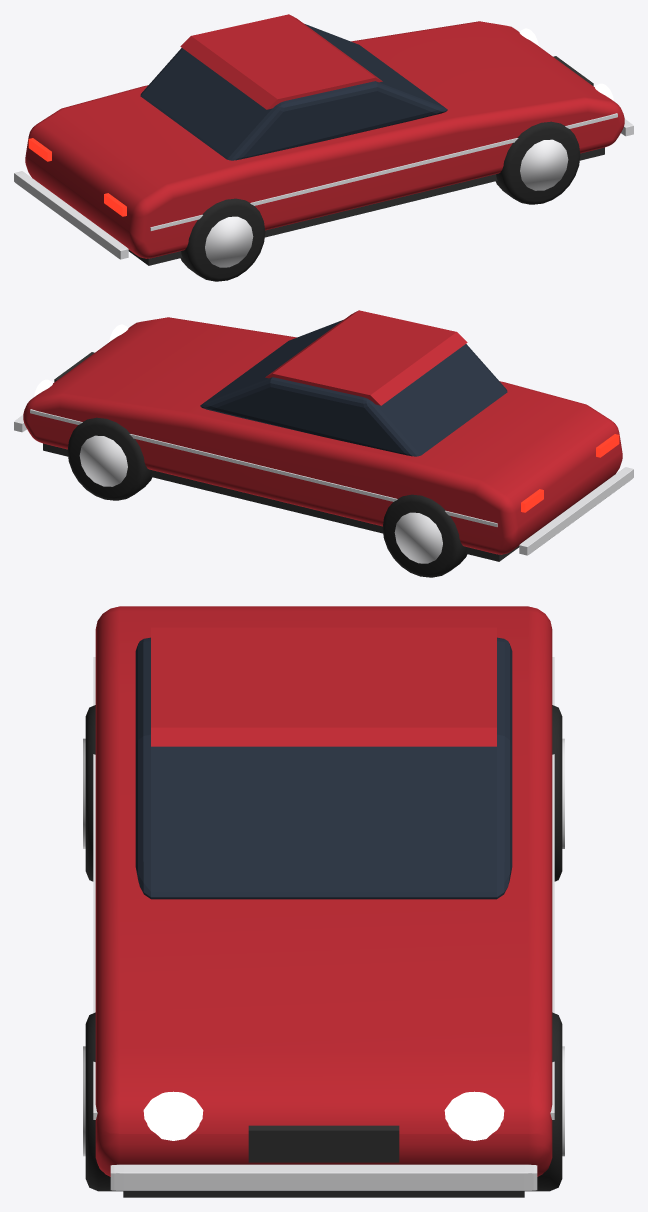
File: car.glb
3 renders of one model, top to bottom at view 1: azimuth 30°, elevation 25°; view 2: azimuth 150°, elevation 25°; view 3: azimuth 270°, elevation 25°, orthographic. The views are drawn at different scales.
Parts seen in each view (by area): view 1: Body, Cabin, Roof, Tire_1.45_-0.82, Tire_-1.45_-0.82, Under, Bumper.001, Hub_-1.45_-0.82, Hub_1.45_-0.82, Strip; view 2: Body, Cabin, Roof, Tire_1.45_0.82, Tire_-1.45_0.82, Under, Bumper.001, Hub_-1.45_0.82, Hub_1.45_0.82, Strip; view 3: Body, Cabin, Roof, Bumper, Grille, Under, Headlight, Headlight.001, Strip, Tire_1.45_0.82, Tire_1.45_-0.82, Tire_-1.45_0.82 (+1 smaller).
Boxes of the visible parts, x1=… form: Body: x1=25, y1=21, x2=624, y2=258; Cabin: x1=140, y1=24, x2=447, y2=160; Roof: x1=180, y1=14, x2=382, y2=109; Tire_1.45_-0.82: x1=495, y1=121, x2=580, y2=204; Tire_-1.45_-0.82: x1=180, y1=198, x2=265, y2=281; Under: x1=128, y1=147, x2=604, y2=265; Bumper.001: x1=14, y1=171, x2=128, y2=259; Hub_-1.45_-0.82: x1=205, y1=216, x2=253, y2=267; Hub_1.45_-0.82: x1=520, y1=139, x2=568, y2=190; Strip: x1=150, y1=113, x2=617, y2=230; Body: x1=23, y1=317, x2=622, y2=554; Cabin: x1=200, y1=320, x2=507, y2=456; Roof: x1=265, y1=310, x2=467, y2=405; Tire_1.45_0.82: x1=67, y1=417, x2=152, y2=500; Tire_-1.45_0.82: x1=382, y1=494, x2=467, y2=577; Under: x1=43, y1=443, x2=519, y2=561; Bumper.001: x1=519, y1=467, x2=633, y2=555; Hub_-1.45_0.82: x1=394, y1=512, x2=442, y2=563; Hub_1.45_0.82: x1=79, y1=435, x2=127, y2=486; Strip: x1=30, y1=409, x2=497, y2=526; Body: x1=95, y1=606, x2=552, y2=1176; Cabin: x1=135, y1=637, x2=512, y2=899; Roof: x1=151, y1=627, x2=496, y2=746; Bumper: x1=110, y1=1164, x2=537, y2=1190; Grille: x1=248, y1=1125, x2=399, y2=1162; Under: x1=123, y1=1191, x2=524, y2=1197; Headlight: x1=143, y1=1091, x2=203, y2=1140; Headlight.001: x1=444, y1=1091, x2=504, y2=1140; Strip: x1=93, y1=657, x2=554, y2=1119; Tire_1.45_0.82: x1=525, y1=1012, x2=562, y2=1191; Tire_1.45_-0.82: x1=85, y1=1012, x2=122, y2=1191; Tire_-1.45_0.82: x1=552, y1=705, x2=562, y2=881.
Bounding box in the file's own units: 4.73 × 1.37 × 1.92.
